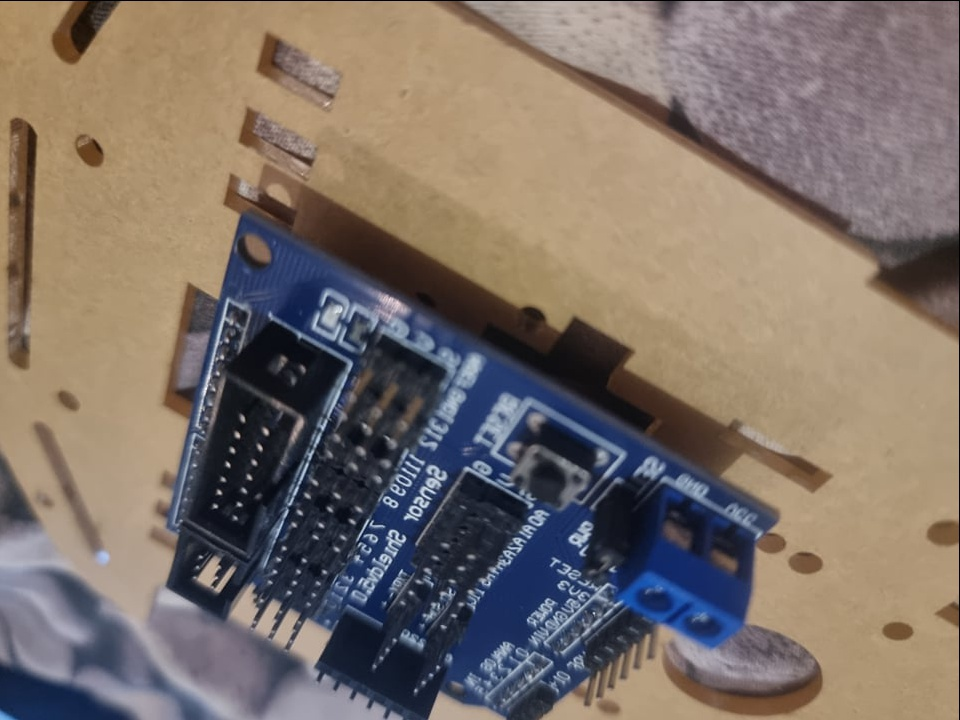5V EXPANSION: (160, 207, 782, 719)
